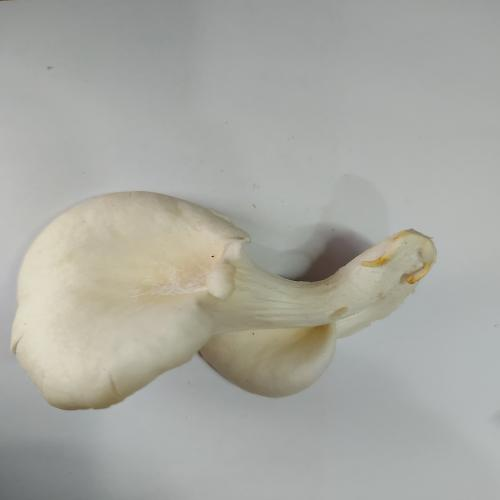Oyster Mushroom: (10, 189, 437, 411)
